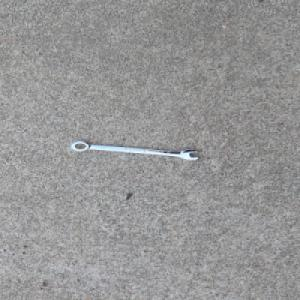Wrench: (69, 140, 200, 161)
